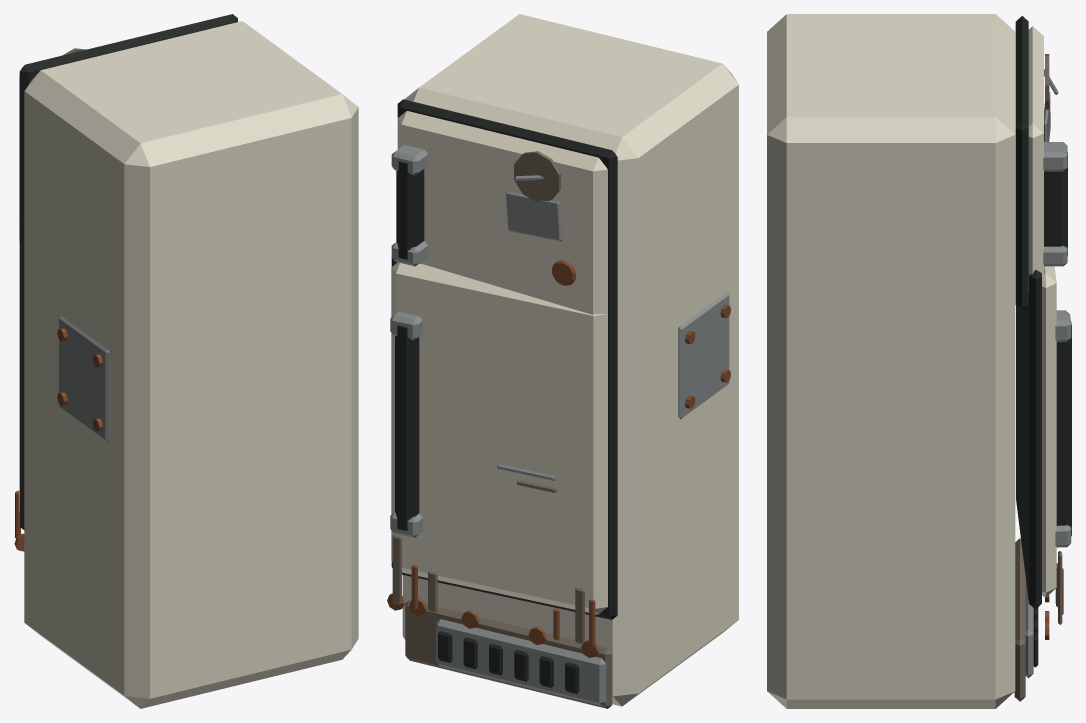
Rendered from fridge.glb.
3 renders of one model, left to right at view 1: azimuth 30°, elevation 25°; view 2: azimuth 150°, elevation 25°; view 3: azimuth 270°, elevation 25°, orthographic. The views are drawn at different scales.
Parts seen in each view (by area): view 1: fridge; view 2: fridge; view 3: fridge.
Part boxes in pixels (bbox=[...]): fridge: bbox=[14, 14, 358, 708]; fridge: bbox=[387, 14, 738, 708]; fridge: bbox=[767, 14, 1071, 708].
Size of the model in its own units: 0.674 by 1.5 by 0.6999.
